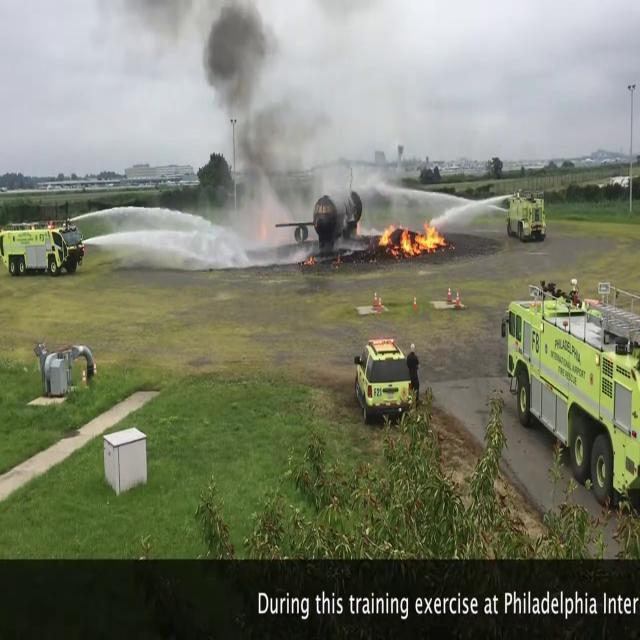Fire: (376, 212, 449, 258)
Smoke: (172, 1, 418, 228), (182, 0, 322, 256)
